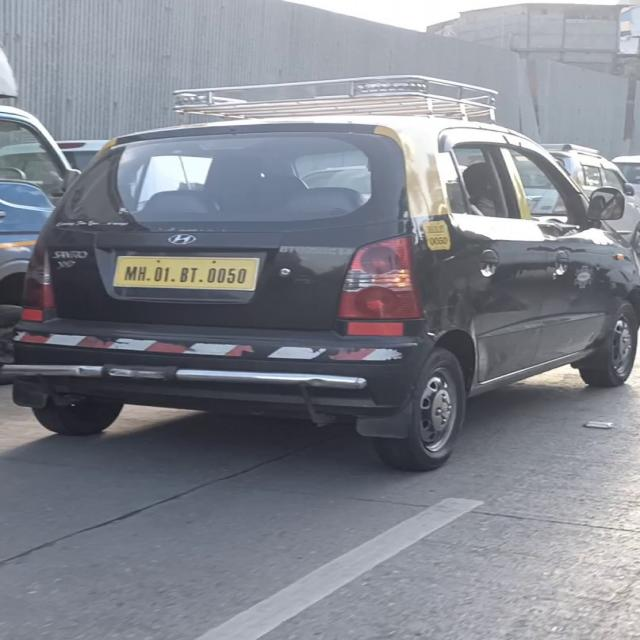Plate: (112, 255, 260, 289)
